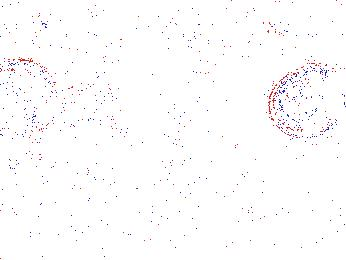moon jellyfish: (267, 61, 346, 139), (134, 44, 210, 121), (1, 58, 57, 134), (44, 83, 134, 129)
